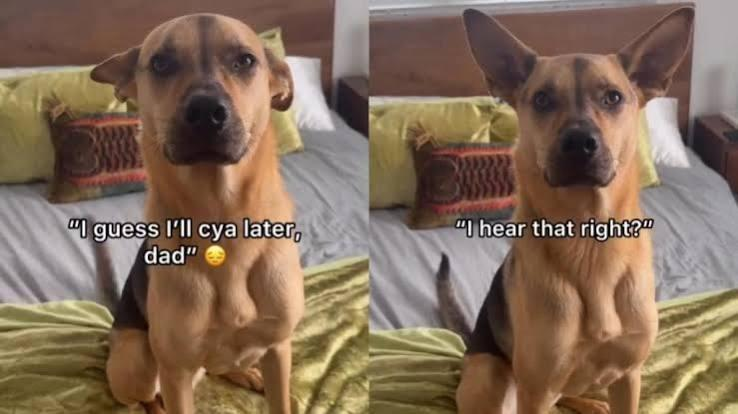adult_dog: (434, 7, 698, 414), (87, 12, 306, 414)
